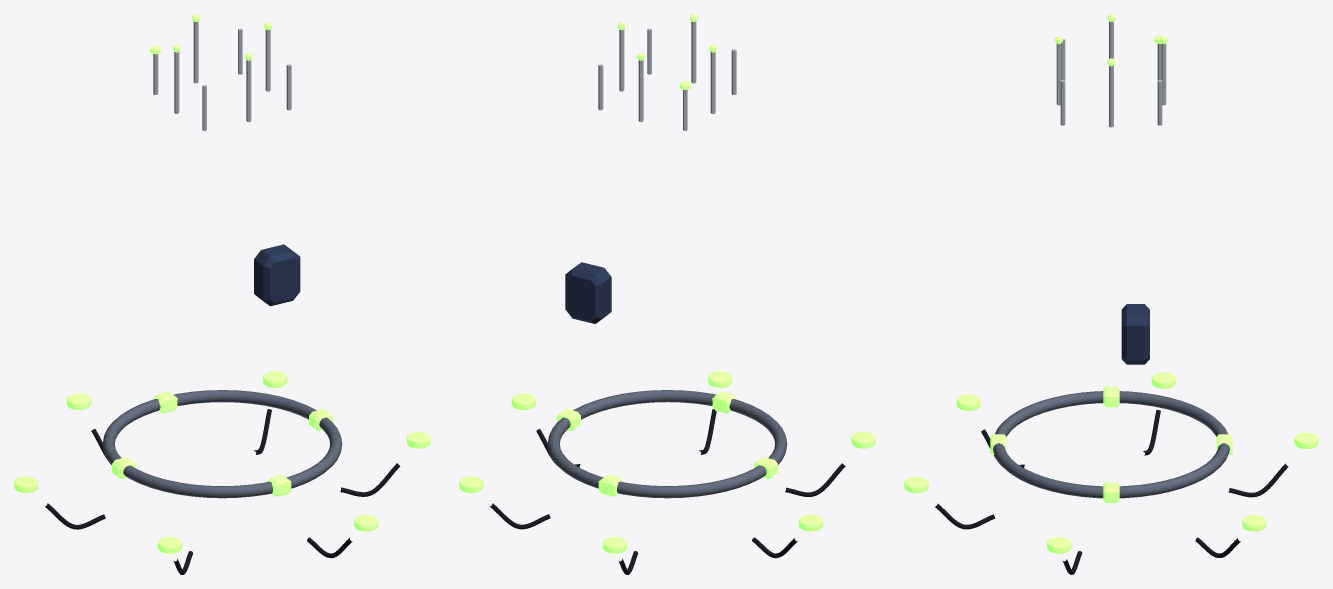
The model's file is tower_detector_field_s6.glb.
3 views of the same model, side by side, from view 1: azimuth 30°, elevation 25°; view 2: azimuth 150°, elevation 25°; view 3: azimuth 270°, elevation 25° (orthographic).
Parts seen in each view (by area): view 1: detector_base_ring, detector_relay; view 2: detector_base_ring, detector_relay; view 3: detector_base_ring, detector_relay.
Part boxes in pixels (x1,y1,x2,y2): detector_base_ring: (102, 390, 342, 498); detector_relay: (254, 244, 300, 306); detector_base_ring: (547, 390, 787, 498); detector_relay: (565, 262, 611, 323); detector_base_ring: (993, 391, 1229, 498); detector_relay: (1121, 304, 1149, 364).
Size of what is drawn, in the model's own units: 2.05 by 2.6 by 2.05.
